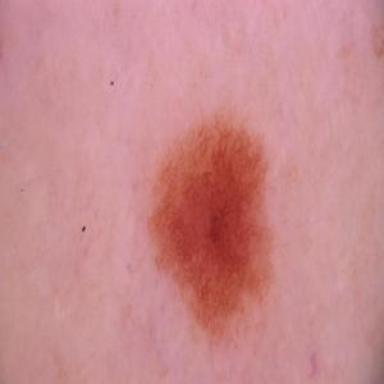Melanoma: (151, 120, 269, 334)
